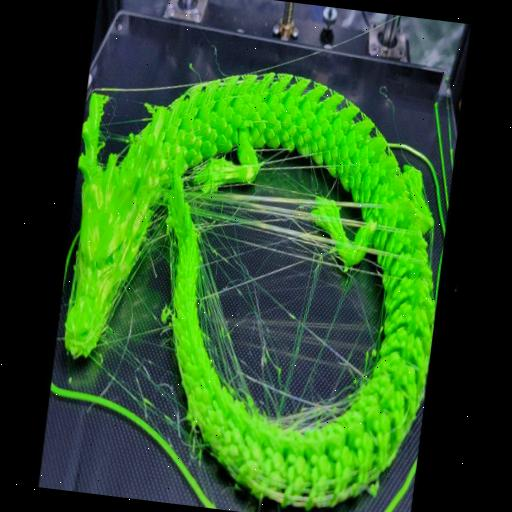stringing: (186, 186, 386, 282), (184, 186, 258, 412), (88, 323, 204, 456), (122, 206, 177, 299), (266, 390, 354, 429)
